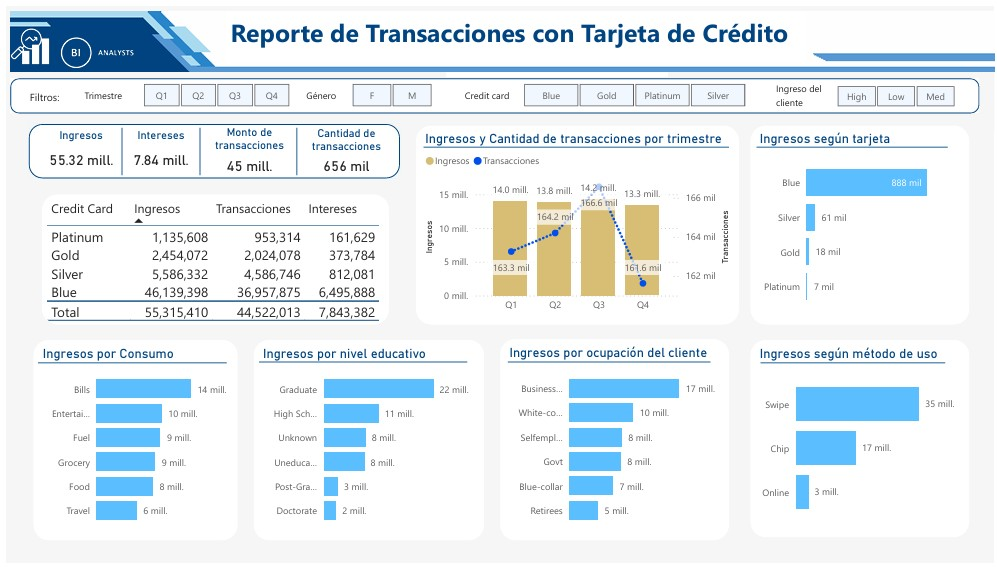

The page's visual inventory and layout, read from the dashboard file:
{"tool":"powerbi","page":{"name":"Transacciones","canvas":[1280,720],"ordinal":0},"visuals":[{"type":"shape","box":[5.3,93.4,1253.9,44.7],"z":1000},{"type":"shape","box":[28.2,151,481.7,71.8],"z":2000},{"type":"lineStackedColumnComboChart","title":"Ingresos y Cantidad de transacciones por trimestre","fields":{"Category":["dim_date.Quarter"],"Y":["fact_credit_card_usage.Revenue"],"Y2":["Sum(fact_credit_card_usage.Total_Trans_Ct)"]},"box":[529.5,154.1,418,257.4],"z":3000},{"type":"clusteredBarChart","title":"Ingresos por Consumo","fields":{"Y":["fact_credit_card_usage.Revenue"],"Category":["dim_expense_type.Exp_Type"]},"box":[35.2,431,263.4,259.2],"z":4000},{"type":"barChart","title":"Ingresos por nivel educativo","fields":{"Category":["dim_client.Education_Level"],"Y":["fact_credit_card_usage.Revenue"]},"box":[319.7,431,298.6,259.2],"z":5000},{"type":"tableEx","fields":{"Values":["dim_card.Card_Category","fact_credit_card_usage.Revenue","Sum(fact_credit_card_usage.Total_Trans_Amt)","Sum(fact_credit_card_usage.Interest_Earned)"]},"box":[45.9,242.6,449.2,168.9],"z":6000},{"type":"card","title":"Ingresos ","fields":{"Values":["fact_credit_card_usage.Revenue"]},"box":[47.4,157.7,98.7,60.3],"z":7000},{"type":"card","title":"Monto de transacciones","fields":{"Values":["Sum(fact_credit_card_usage.Total_Trans_Amt)"]},"box":[244.3,155,140.4,63.2],"z":8000},{"type":"slicer","fields":{"Values":["dim_client.Gender"]},"box":[427.3,98.2,141.8,32.7],"z":9000},{"type":"card","title":"Cantidad de transacciones","fields":{"Values":["Sum(fact_credit_card_usage.Total_Trans_Ct)"]},"box":[382.3,155.8,115.3,61.1],"z":10000},{"type":"slicer","fields":{"Values":["dim_card.Card_Category"]},"box":[649.1,98.2,326.4,33.1],"z":12000},{"type":"slicer","fields":{"Values":["dim_client.IncomeGroup"]},"box":[1055.3,101.3,190.8,28.9],"z":13000},{"type":"barChart","title":"Ingresos según método de uso ","fields":{"Y":["fact_credit_card_usage.Revenue"],"Category":["dim_transaction_type.Use_Chip"]},"box":[963.4,431,283.1,254.9],"z":14000},{"type":"image","box":[0,0,1308,92],"z":15000},{"type":"barChart","title":"Ingresos por ocupación del cliente","fields":{"Y":["fact_credit_card_usage.Revenue"],"Category":["dim_client.Customer_Job"]},"box":[639.4,429.6,295.8,260.6],"z":16000},{"type":"textbox","box":[25,102.6,65.8,30.3],"z":17000},{"type":"textbox","box":[994.7,97.4,78.9,35.5],"z":18000},{"type":"textbox","box":[96.3,101.2,80.2,32.1],"z":19000},{"type":"textbox","box":[382.7,101,63.3,31.6],"z":20000},{"type":"textbox","box":[588.2,101.3,81.6,31.6],"z":21000},{"type":"slicer","fields":{"Values":["dim_date.Quarter"]},"box":[157.3,98.2,227.3,32.7],"z":22000},{"type":"textbox","box":[285.1,6,750.7,67.2],"z":23000},{"type":"card","title":"Intereses","fields":{"Values":["Sum(fact_credit_card_usage.Interest_Earned)"]},"box":[150,157.7,100,59],"z":24000},{"type":"barChart","title":"Ingresos según tarjeta","fields":{"Category":["dim_card.Card_Category"],"Y":["Sum(fact_credit_card_usage.Customer_Acq_Cost)"]},"box":[963.4,153.5,283.1,257.7],"z":25000},{"type":"shape","box":[41.1,452.6,244.2,15.8],"z":26000},{"type":"shape","box":[327.4,452.6,268.4,13.7],"z":27000},{"type":"shape","box":[649.5,451.6,261.1,15.8],"z":28000},{"type":"shape","box":[975.8,452.6,238.9,15.8],"z":29000},{"type":"shape","box":[970.5,171.6,247.4,20],"z":30000},{"type":"shape","box":[540,174.7,394.7,14.7],"z":31000},{"type":"image","box":[0,19.7,61.4,62.2],"z":32000},{"type":"shape","box":[355.7,157.1,39.1,60.9],"z":33000},{"type":"shape","box":[231.1,157.1,39.1,60.9],"z":34000},{"type":"shape","box":[129.7,157.1,39.1,60.9],"z":35000},{"type":"image","box":[34.6,27.6,194.5,65.4],"z":37000}]}

Visuals, with their boxes in screenshot pixels (x1, y1, x2, y2), scaled from the page's 1280x720 canvas onto the 997x567 screenshot:
shape: {"x1": 4, "y1": 74, "x2": 981, "y2": 109}
shape: {"x1": 22, "y1": 119, "x2": 397, "y2": 175}
"Ingresos y Cantidad de transacciones por trimestre" lineStackedColumnComboChart: {"x1": 412, "y1": 121, "x2": 738, "y2": 324}
"Ingresos por Consumo" clusteredBarChart: {"x1": 27, "y1": 339, "x2": 233, "y2": 544}
"Ingresos por nivel educativo" barChart: {"x1": 249, "y1": 339, "x2": 482, "y2": 544}
tableEx - dim_card.Card_Category x fact_credit_card_usage.Revenue: {"x1": 36, "y1": 191, "x2": 386, "y2": 324}
"Ingresos " card: {"x1": 37, "y1": 124, "x2": 114, "y2": 172}
"Monto de transacciones" card: {"x1": 190, "y1": 122, "x2": 300, "y2": 172}
slicer - dim_client.Gender: {"x1": 333, "y1": 77, "x2": 443, "y2": 103}
"Cantidad de transacciones" card: {"x1": 298, "y1": 123, "x2": 388, "y2": 171}
slicer - dim_card.Card_Category: {"x1": 506, "y1": 77, "x2": 760, "y2": 103}
slicer - dim_client.IncomeGroup: {"x1": 822, "y1": 80, "x2": 971, "y2": 103}
"Ingresos según método de uso " barChart: {"x1": 750, "y1": 339, "x2": 971, "y2": 540}
image: {"x1": 0, "y1": 0, "x2": 996, "y2": 72}
"Ingresos por ocupación del cliente" barChart: {"x1": 498, "y1": 338, "x2": 728, "y2": 544}
textbox: {"x1": 19, "y1": 81, "x2": 71, "y2": 105}
textbox: {"x1": 775, "y1": 77, "x2": 836, "y2": 105}
textbox: {"x1": 75, "y1": 80, "x2": 137, "y2": 105}
textbox: {"x1": 298, "y1": 80, "x2": 347, "y2": 104}
textbox: {"x1": 458, "y1": 80, "x2": 522, "y2": 105}
slicer - dim_date.Quarter: {"x1": 123, "y1": 77, "x2": 300, "y2": 103}
textbox: {"x1": 222, "y1": 5, "x2": 807, "y2": 58}
"Intereses" card: {"x1": 117, "y1": 124, "x2": 195, "y2": 171}
"Ingresos según tarjeta" barChart: {"x1": 750, "y1": 121, "x2": 971, "y2": 324}
shape: {"x1": 32, "y1": 356, "x2": 222, "y2": 369}
shape: {"x1": 255, "y1": 356, "x2": 464, "y2": 367}
shape: {"x1": 506, "y1": 356, "x2": 709, "y2": 368}
shape: {"x1": 760, "y1": 356, "x2": 946, "y2": 369}
shape: {"x1": 756, "y1": 135, "x2": 949, "y2": 151}
shape: {"x1": 421, "y1": 138, "x2": 728, "y2": 149}
image: {"x1": 0, "y1": 16, "x2": 48, "y2": 64}
shape: {"x1": 277, "y1": 124, "x2": 308, "y2": 172}
shape: {"x1": 180, "y1": 124, "x2": 210, "y2": 172}
shape: {"x1": 101, "y1": 124, "x2": 131, "y2": 172}
image: {"x1": 27, "y1": 22, "x2": 178, "y2": 73}
